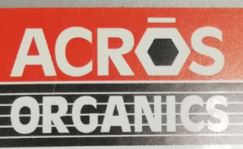AcrosOrganics: (10, 16, 231, 136)
